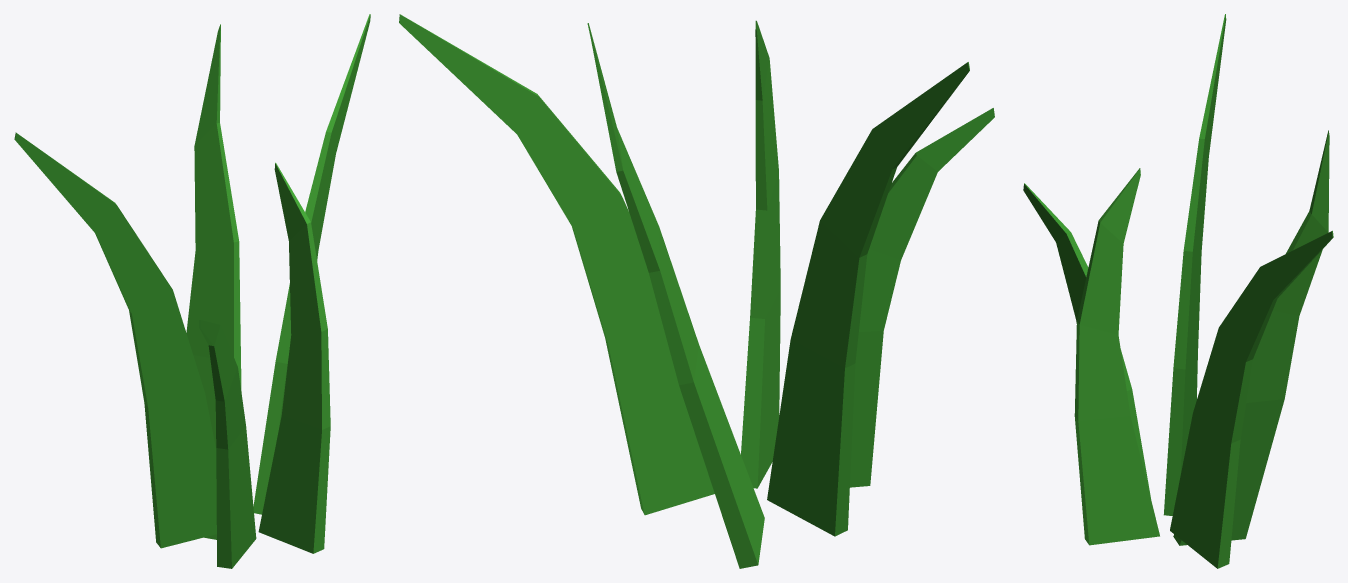
Rendered from ForestGrass(3).fbx.
The picture shows the model from 3 angles, left to right: view 1: azimuth 30°, elevation 25°; view 2: azimuth 150°, elevation 25°; view 3: azimuth 270°, elevation 25°; orthographic projection. The views are drawn at different scales.
Parts seen in each view (by area): view 1: Grass(3); view 2: Grass(3); view 3: Grass(3).
Part boxes in pixels (<box>): Grass(3): <box>14,14,370,568</box>; Grass(3): <box>399,14,994,568</box>; Grass(3): <box>1023,14,1333,568</box>.
Bounding box in the file's own units: 0.5926 × 0.6288 × 0.3948.
